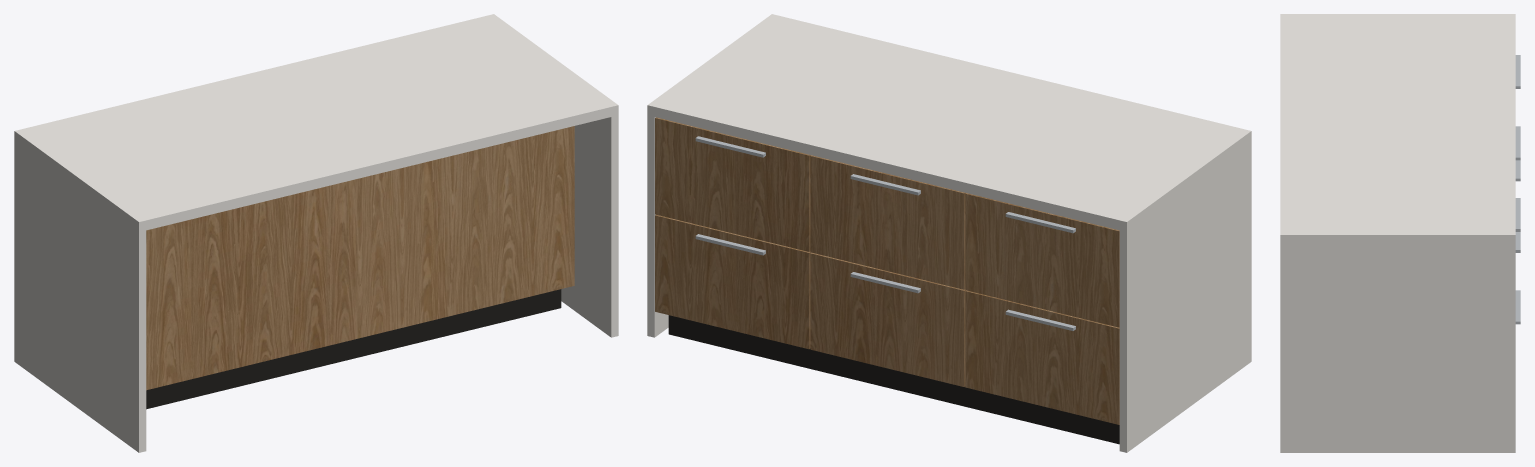
The model's file is island.glb.
3 renders of one model, left to right at view 1: azimuth 30°, elevation 25°; view 2: azimuth 150°, elevation 25°; view 3: azimuth 270°, elevation 25°, orthographic. The views are drawn at different scales.
Parts seen in each view (by area): view 1: island; view 2: island; view 3: island.
Part boxes in pixels (x1,y1,x2,y2): island: [14, 14, 618, 452]; island: [647, 14, 1251, 452]; island: [1280, 14, 1520, 452].
Bounding box in the file's own units: 2 × 0.92 × 0.92.
5 materials, 1 textured.
